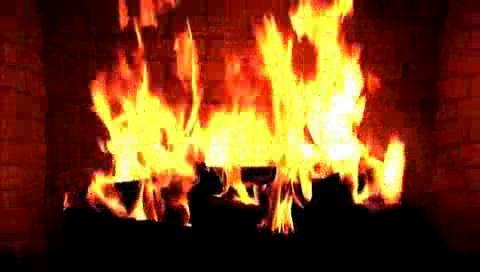fire: (96, 0, 402, 224)
